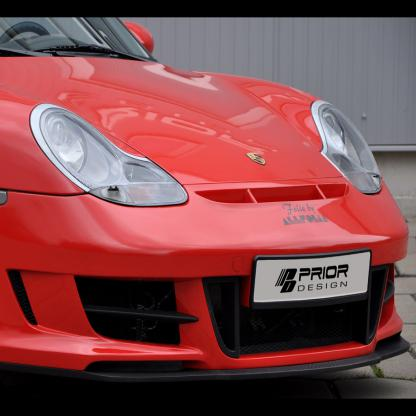Car: (0, 17, 411, 383)
